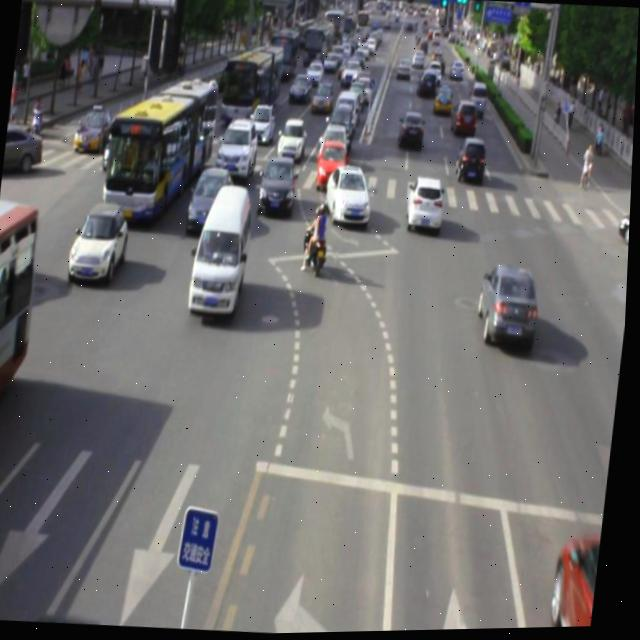car: (477, 262, 543, 347), (70, 200, 134, 285), (554, 534, 606, 630), (321, 159, 375, 227), (187, 164, 237, 236), (405, 176, 446, 232), (259, 157, 298, 215), (0, 532, 4, 620)
truck: (188, 180, 258, 317)
van: (102, 76, 220, 230), (0, 198, 43, 429)
